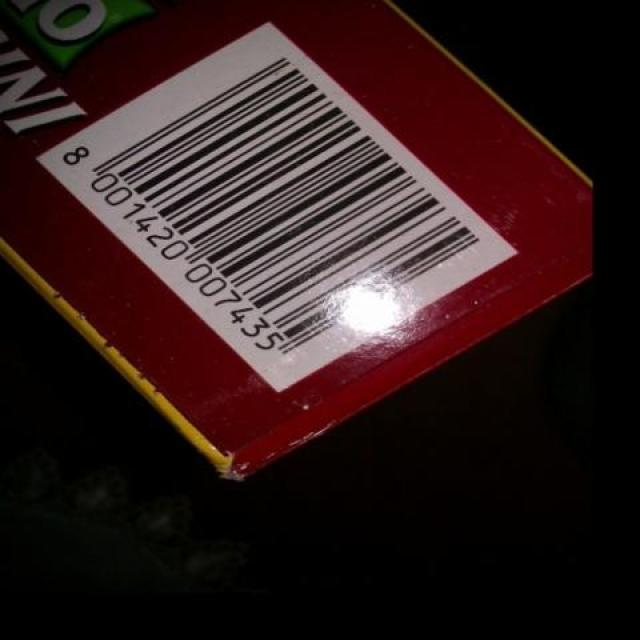Barcode: (37, 21, 519, 395)
